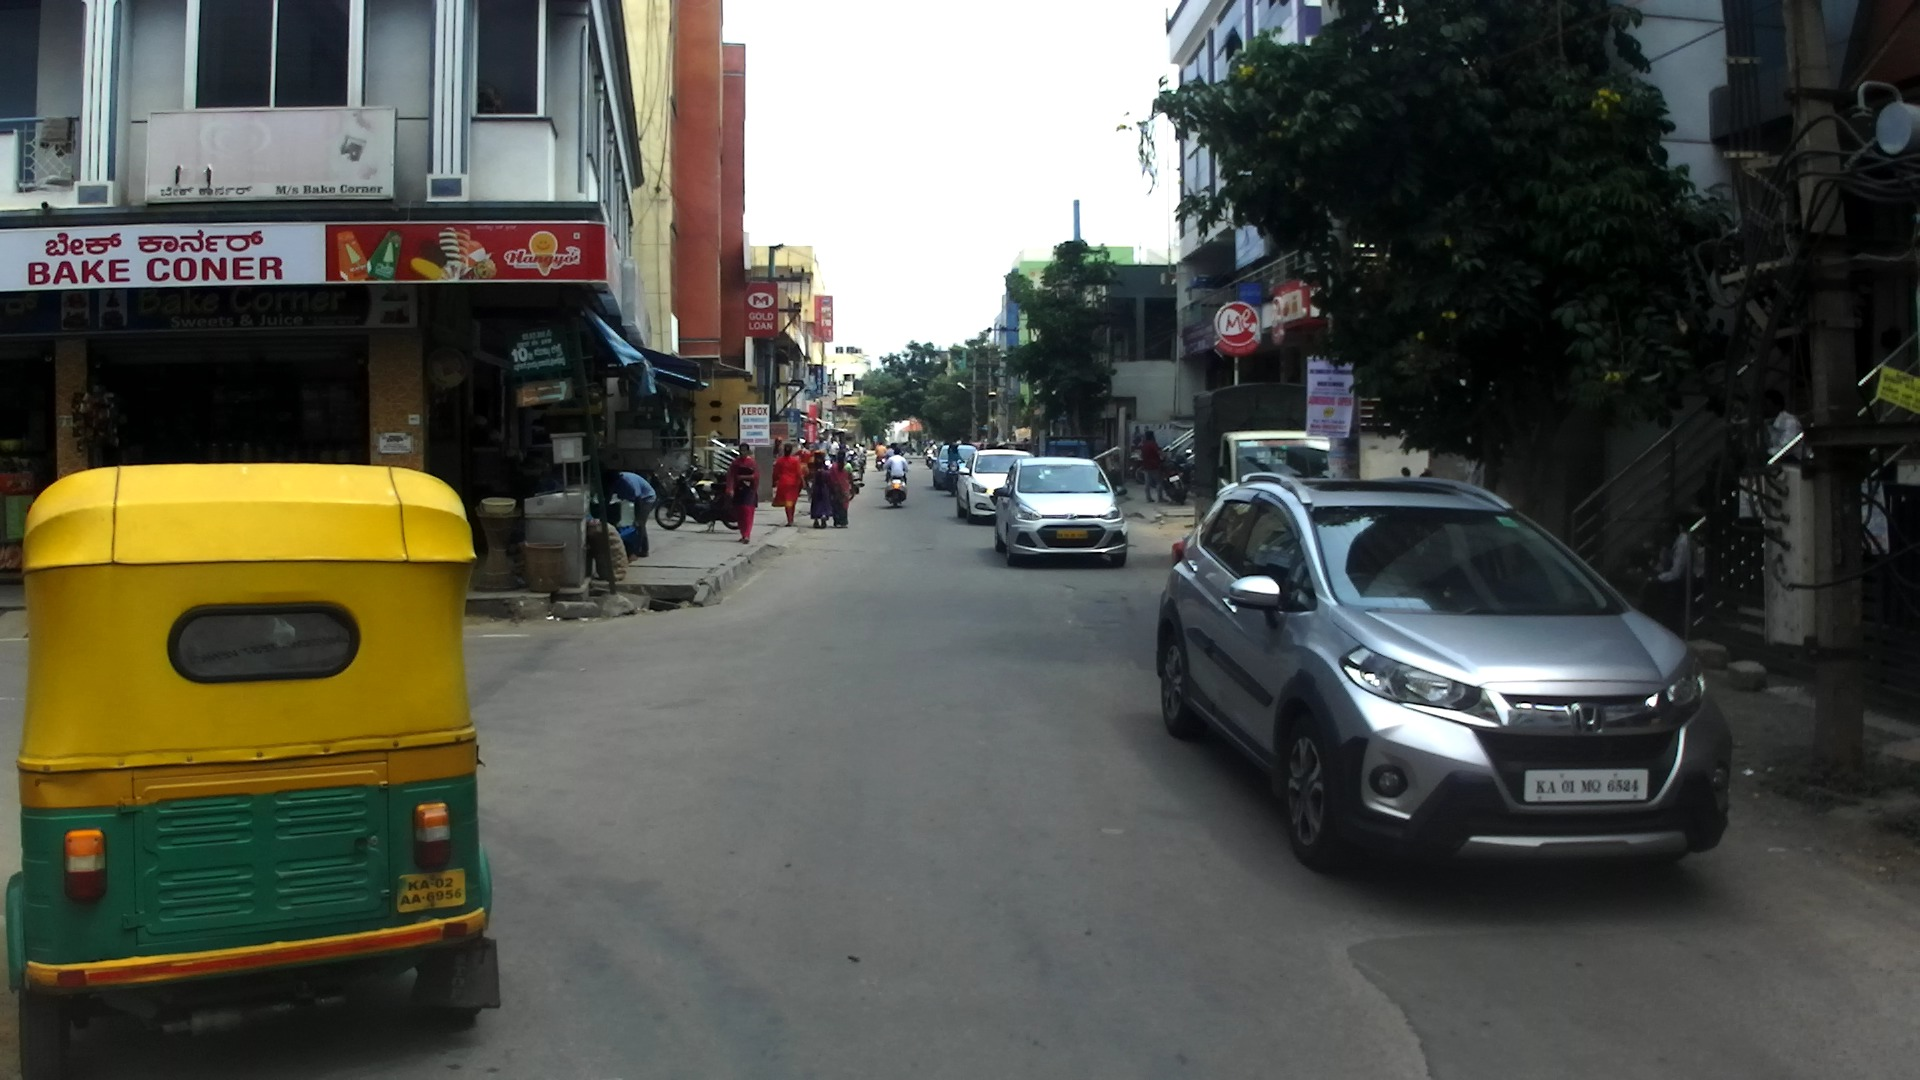autorickshaw: (4, 463, 502, 1076)
bicycle: (845, 486, 853, 500)
car: (1153, 469, 1730, 871), (993, 457, 1127, 567), (956, 449, 1035, 525), (929, 445, 977, 489)
motorcycle: (655, 465, 745, 532), (650, 459, 711, 504), (684, 452, 727, 503), (1154, 452, 1188, 504), (1129, 448, 1171, 483), (882, 460, 912, 506), (1173, 448, 1195, 484), (946, 460, 964, 495), (848, 458, 863, 495), (847, 447, 865, 474), (1399, 467, 1433, 478), (925, 450, 936, 469), (856, 454, 865, 470), (876, 457, 885, 471), (824, 460, 833, 471)
person: (1641, 518, 1701, 614), (602, 468, 657, 559), (723, 442, 759, 545), (1757, 393, 1808, 465), (772, 443, 806, 526), (828, 450, 853, 528), (810, 457, 832, 528), (795, 441, 814, 491), (772, 436, 782, 486), (814, 433, 828, 462), (827, 437, 839, 463), (838, 437, 846, 456), (921, 440, 927, 456), (917, 441, 922, 456), (980, 442, 985, 448), (987, 443, 991, 447)
rider: (1141, 431, 1168, 504), (943, 441, 965, 488), (884, 448, 908, 480), (885, 442, 899, 479), (874, 443, 888, 463), (924, 439, 937, 454), (894, 443, 901, 456), (851, 445, 859, 453), (857, 442, 862, 455), (861, 444, 867, 456), (898, 451, 905, 458)
truck: (1195, 382, 1332, 527)
vehicle fallback: (1044, 436, 1102, 459), (897, 443, 915, 455)
